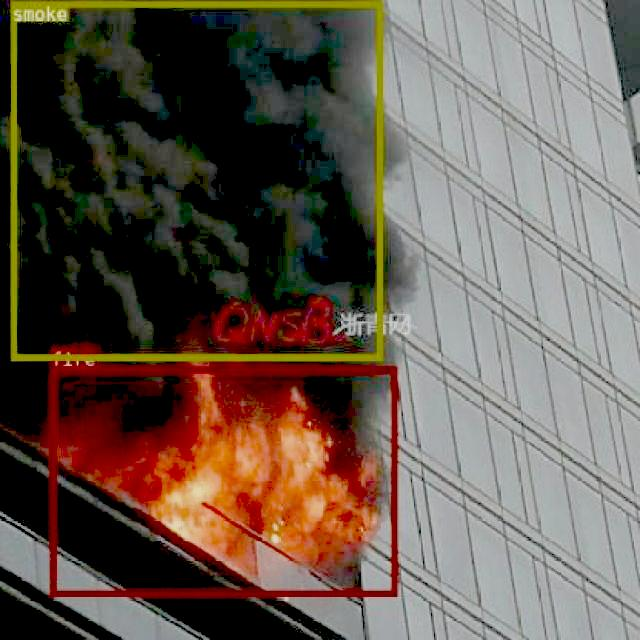fire: (50, 366, 396, 594)
smoke: (11, 1, 382, 360)
